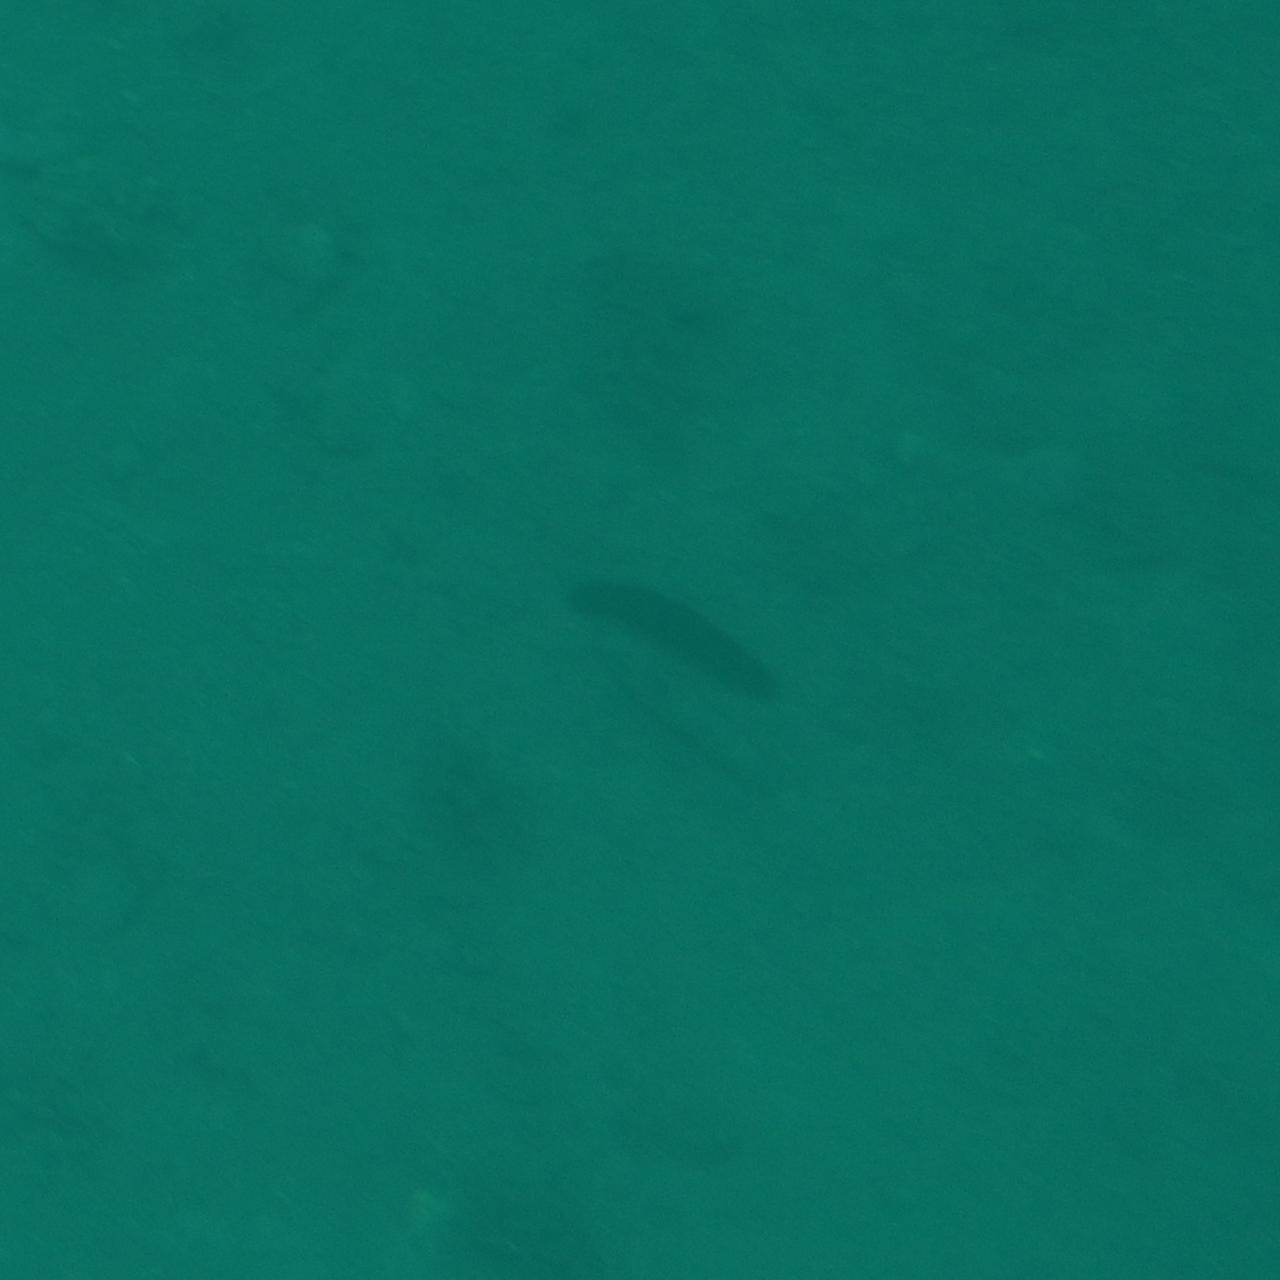Holothuria tubulosa: (543, 561, 835, 719)
